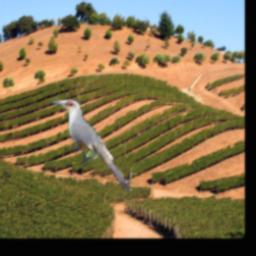Cuckoo: (51, 98, 132, 192)
